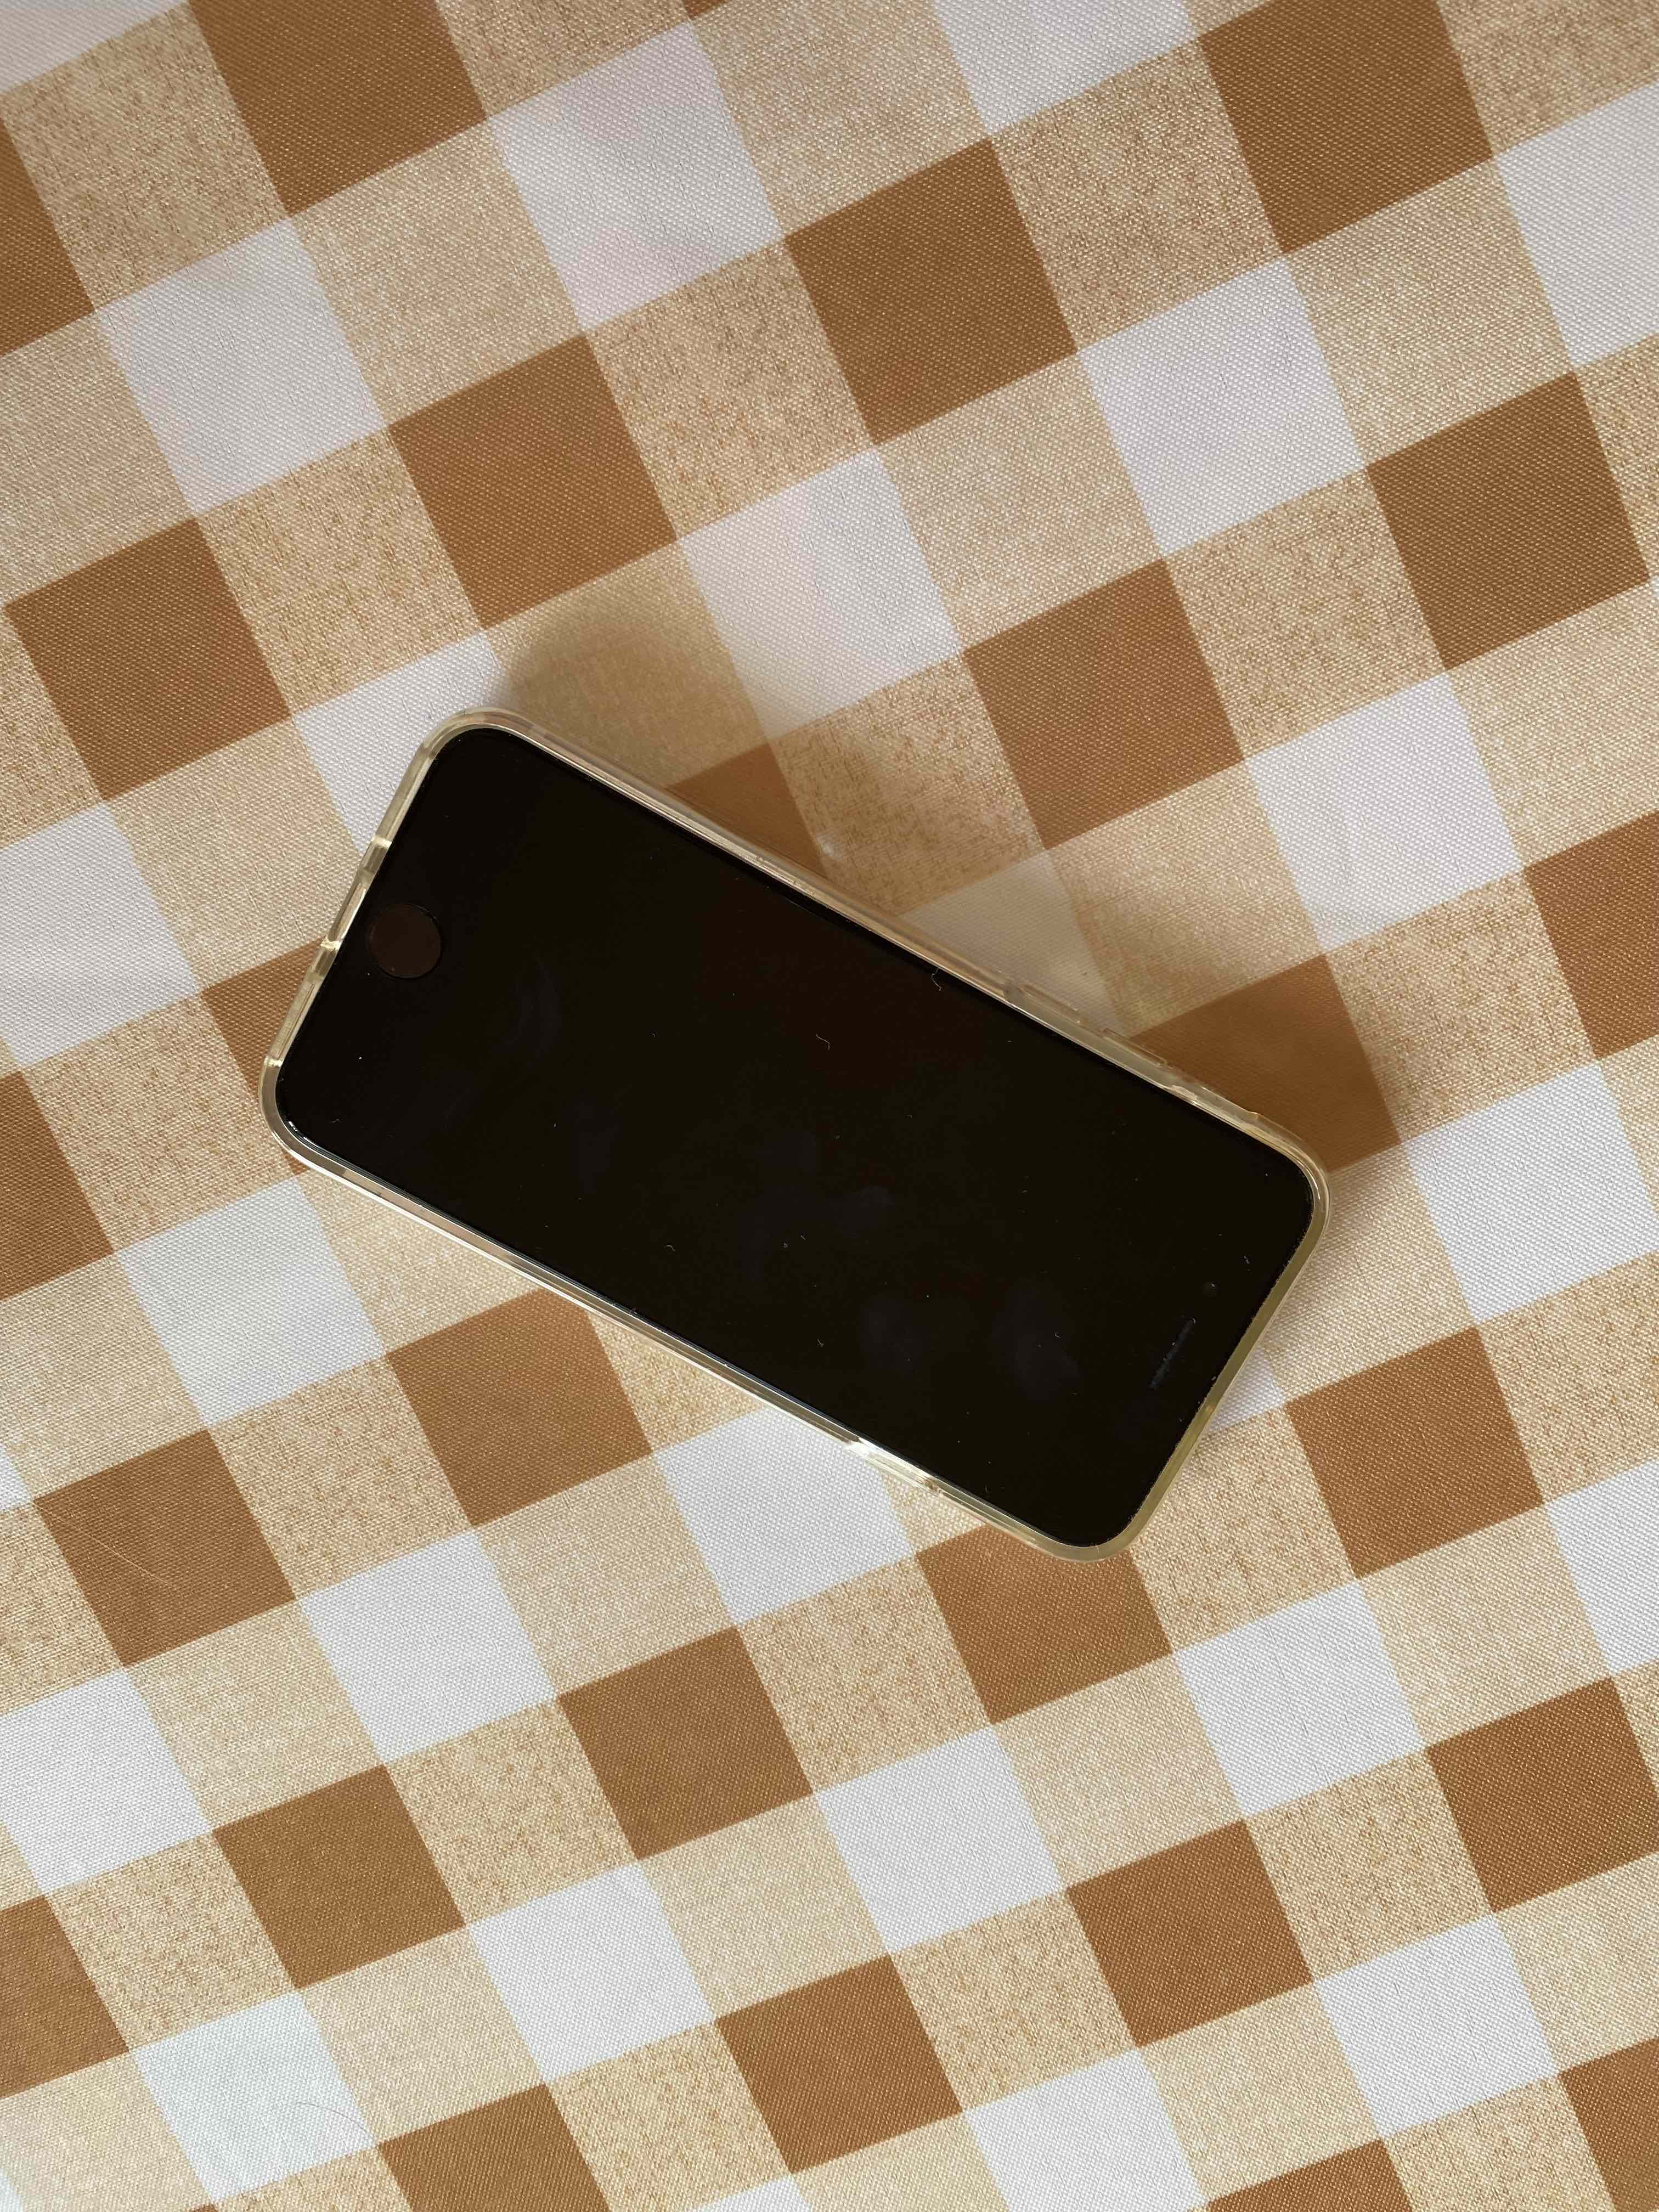Cell Phone: (251, 723, 1317, 1550)
